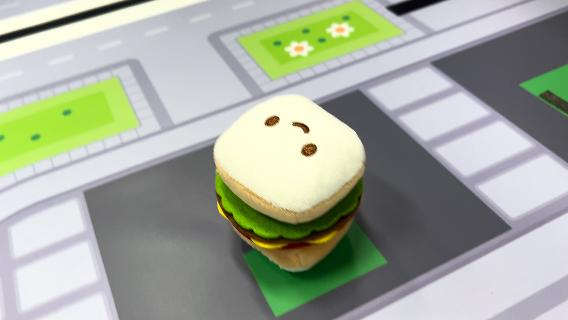sandwich: (211, 91, 369, 272)
